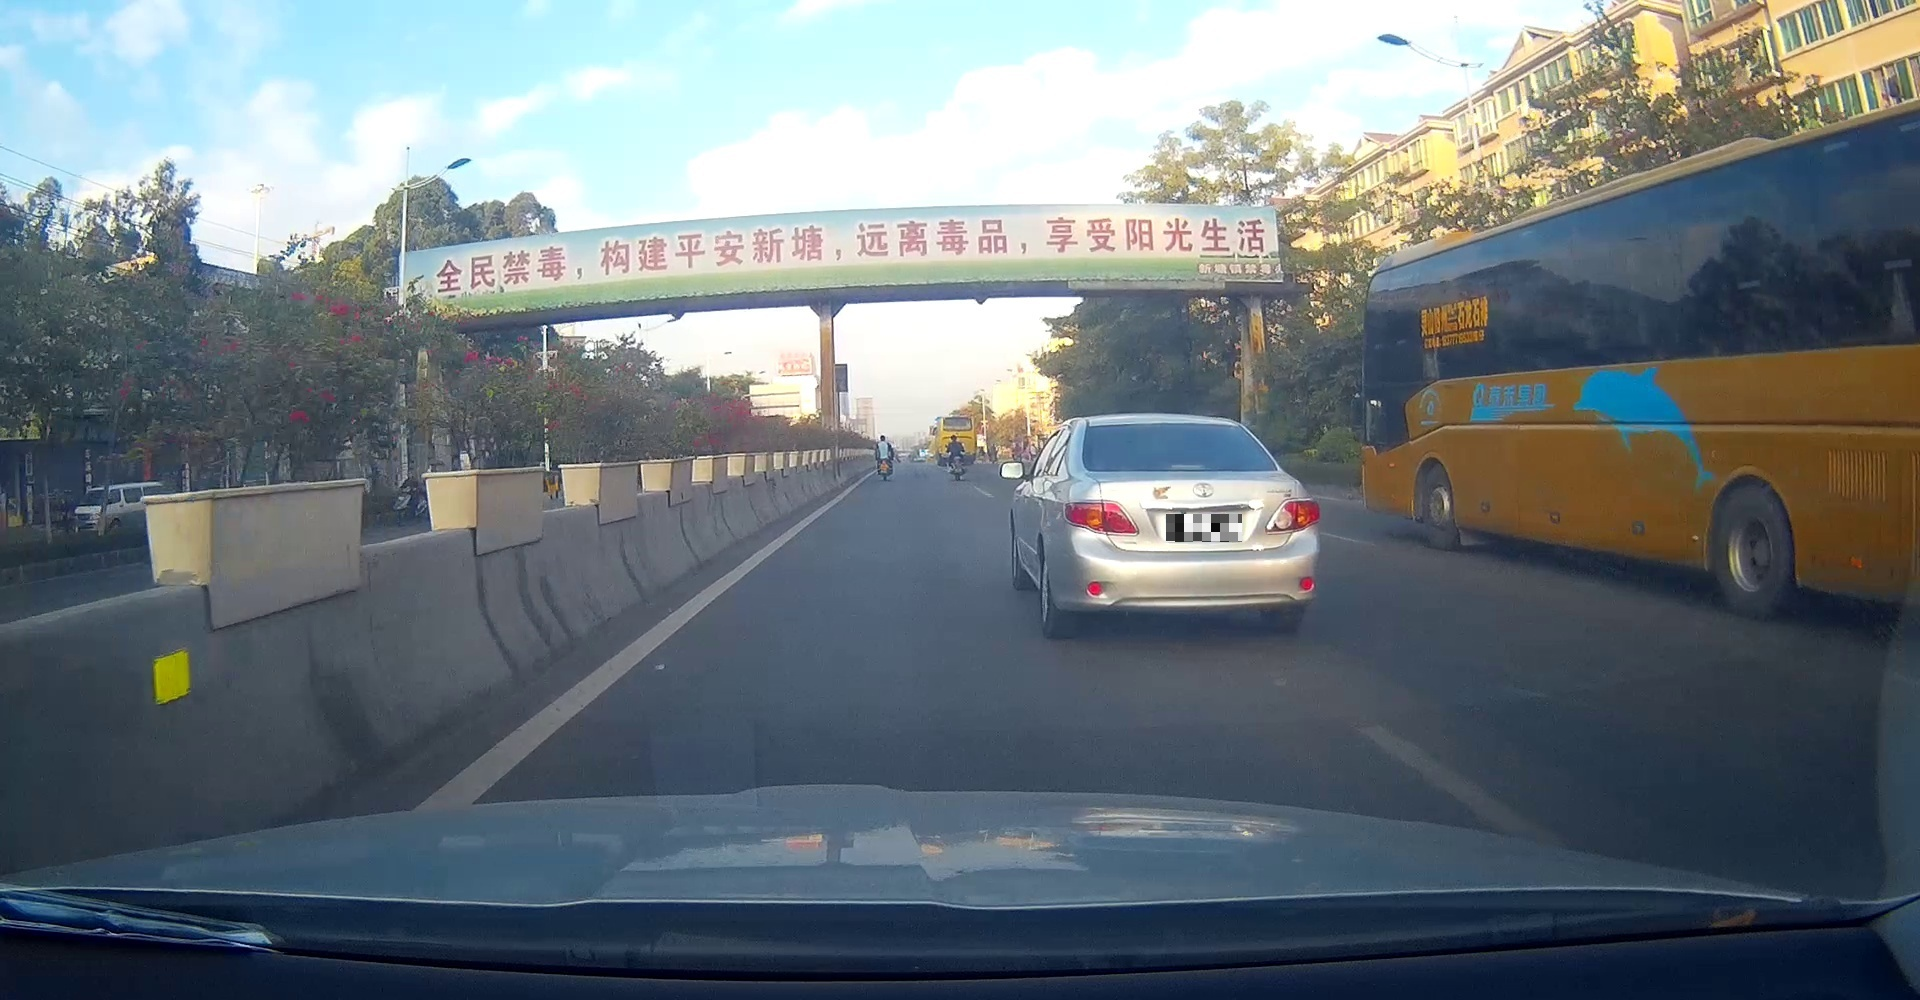L_light: (1063, 500, 1140, 537)
R_light: (1265, 497, 1321, 536)
T_light: (1171, 464, 1208, 471)
day-no: (1063, 414, 1321, 640)
plate_1: (1166, 514, 1242, 542)
